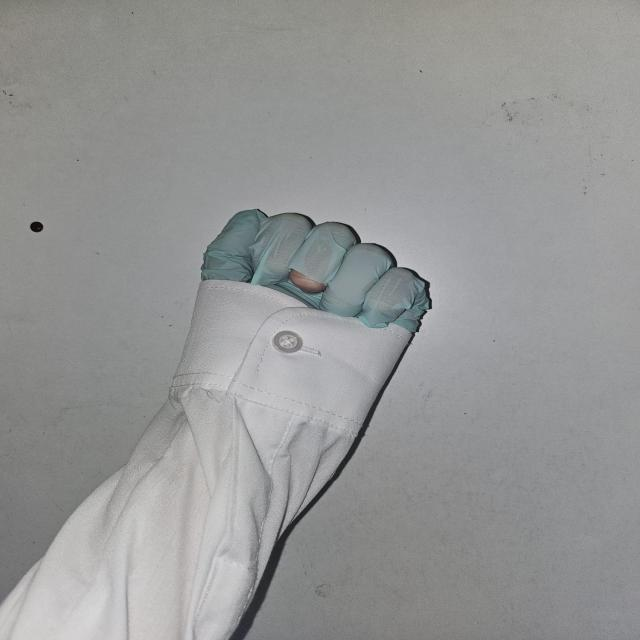gloves_damaged: (203, 205, 438, 329)
